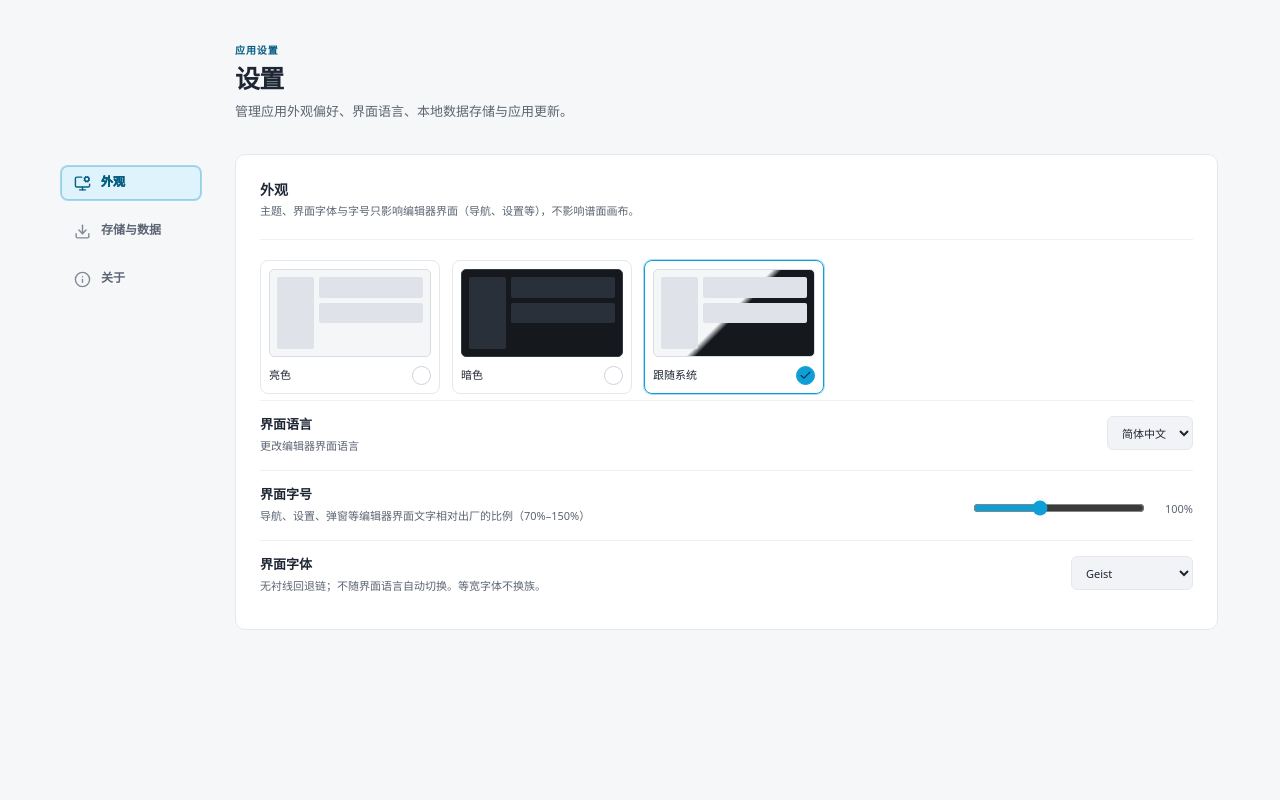
it: ADR-0021 · 设置页关于 › 浏览器：关于只展示应用版本，没有检查更新与自动检查
This screenshot has width=1280, height=800.
Click the button "关于" at point(131, 278), box [61,262,201,296]
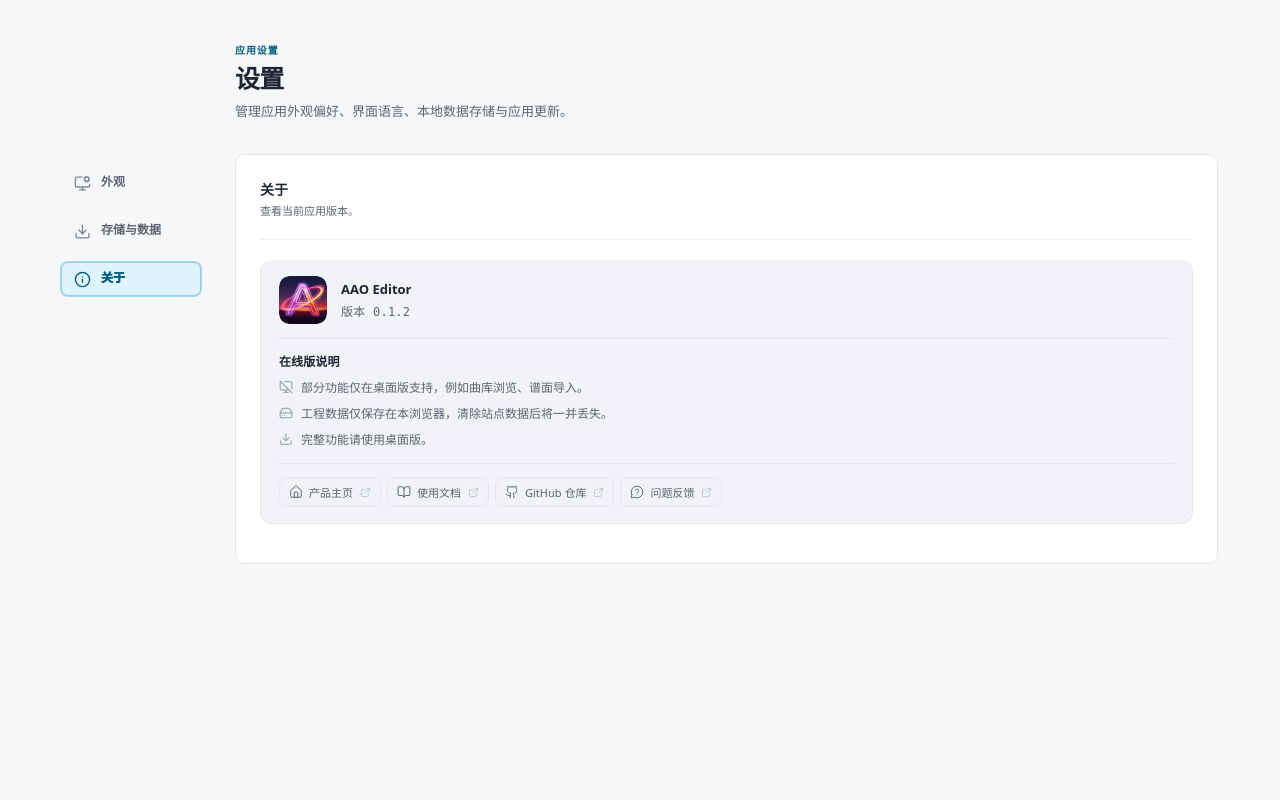
Now the heading "关于" is shown, box [260,180,288,198]
Now the text "版本 0.1.2" is shown, box [341,302,412,319]
Now the text "部分功能仅在桌面版支持" is shown, box [301,379,589,396]
